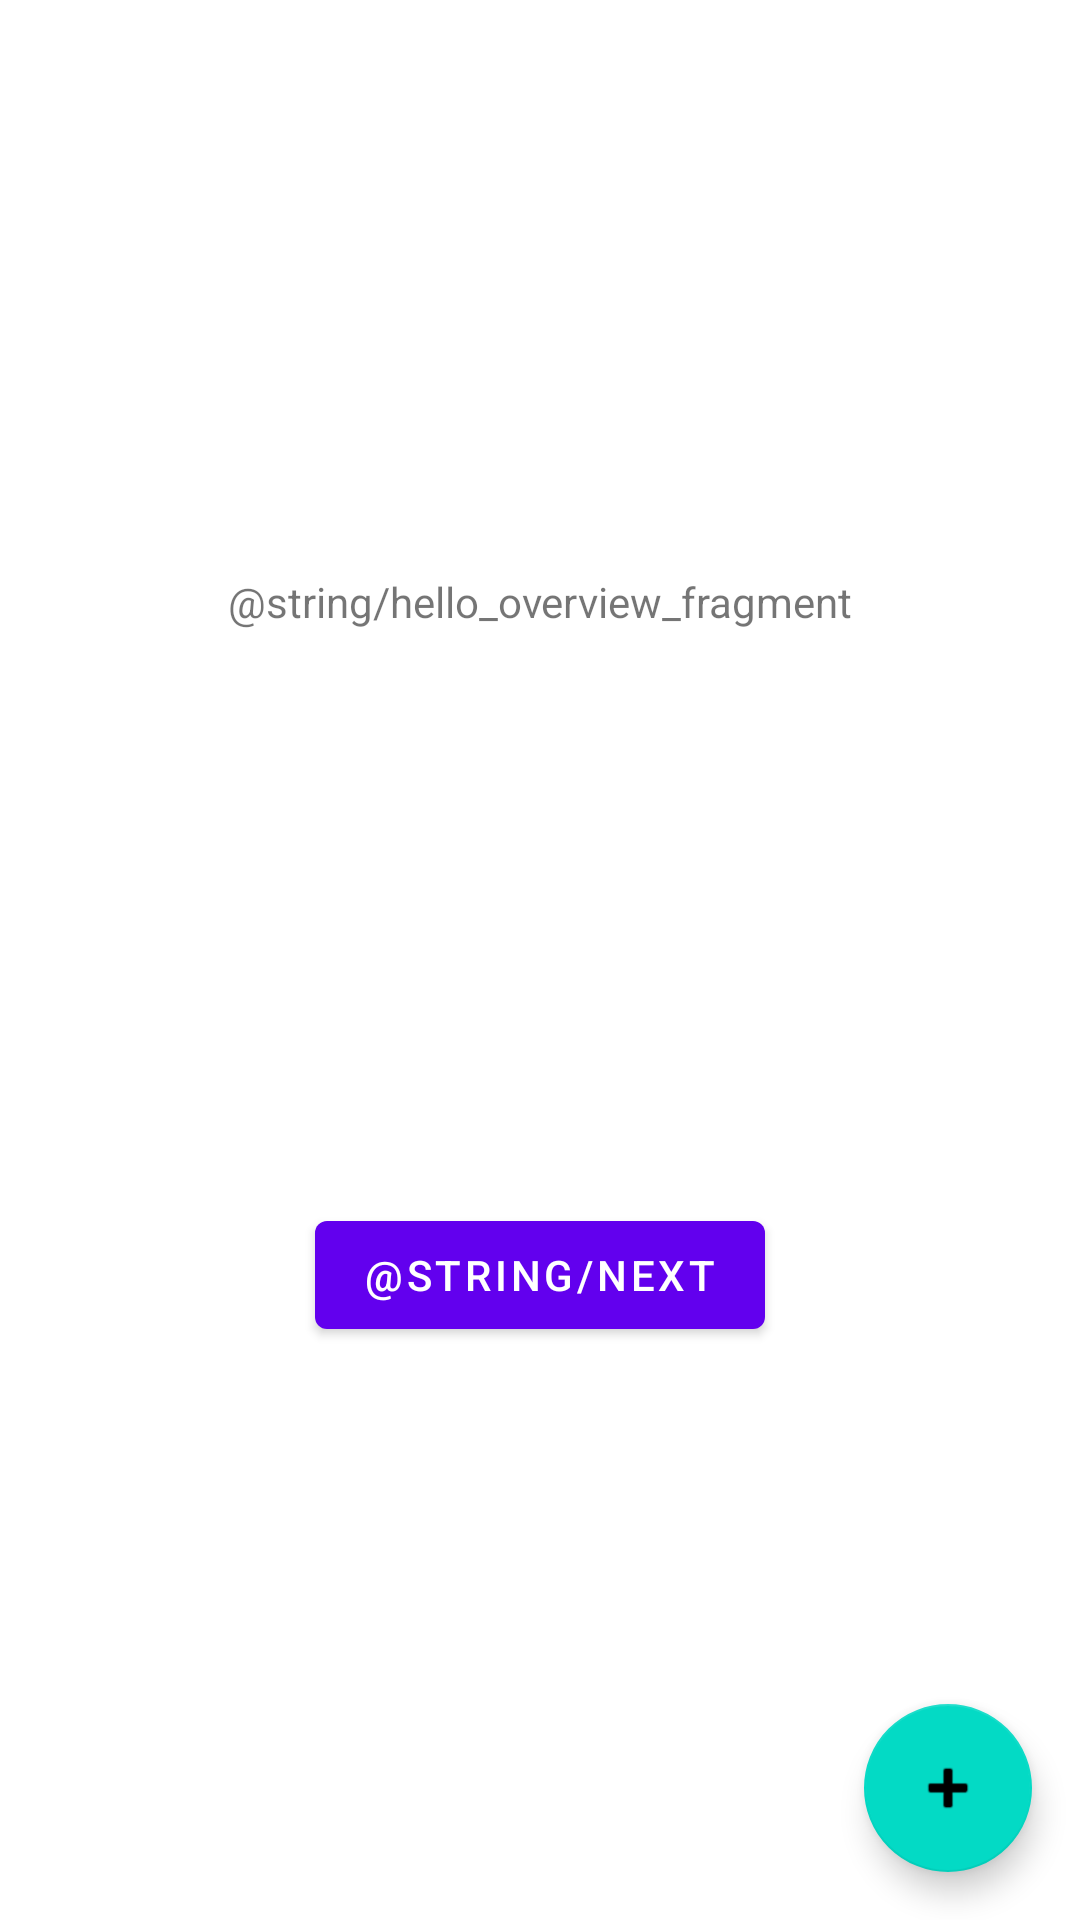

Icons on this 1080×1920 Android screen, each with its box as (x1=x1, y1=y1, x2=x2, y2=y2):
Fab for adding a memo: (x1=864, y1=1704, x2=1032, y2=1872)
